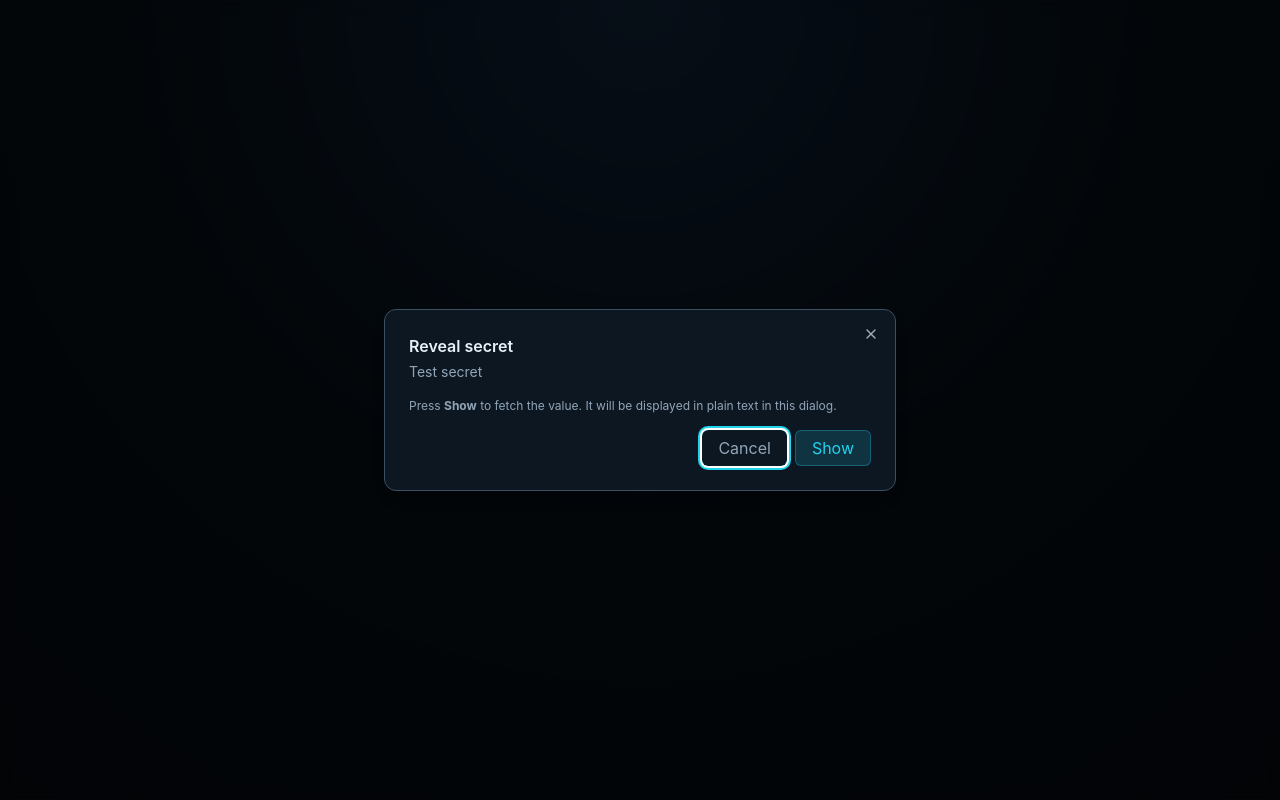
Test: RevealSecretView › rejects malformed base64 without exposing it to the clipboard
Click the button "Show" at (833, 448), box 795,430 -> 871,466
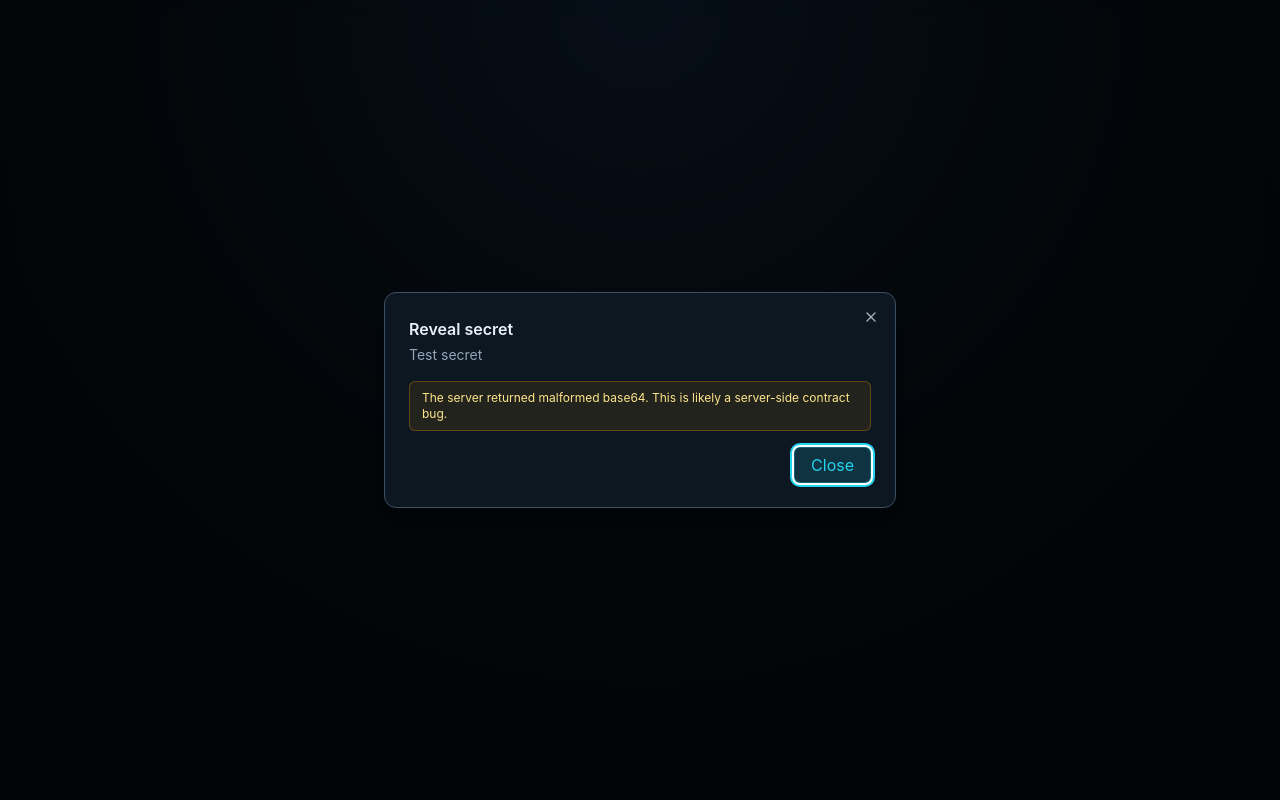
Check: the text "returned malformed base64" is shown, box 422,390 -> 850,421
